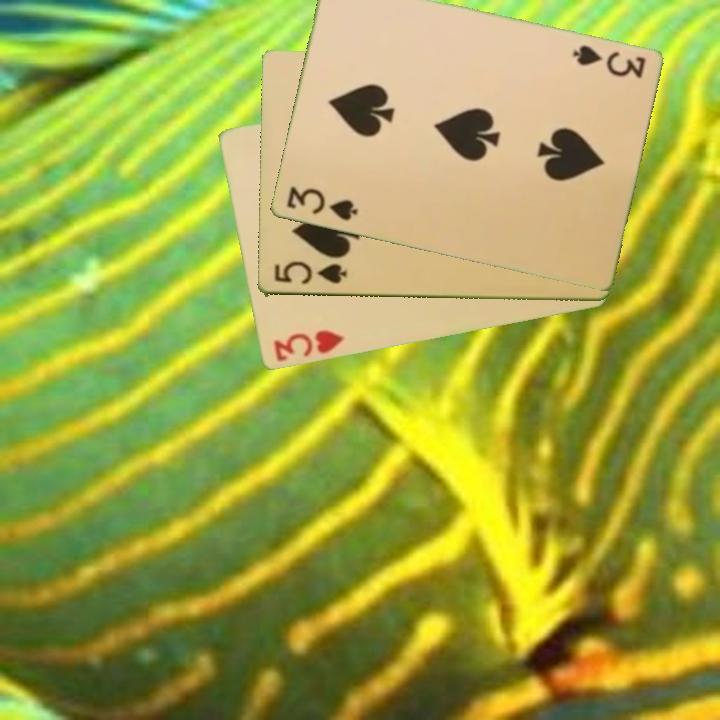3h: (269, 327, 347, 365)
3s: (569, 41, 648, 82), (283, 183, 360, 224)
5s: (270, 259, 349, 288)
